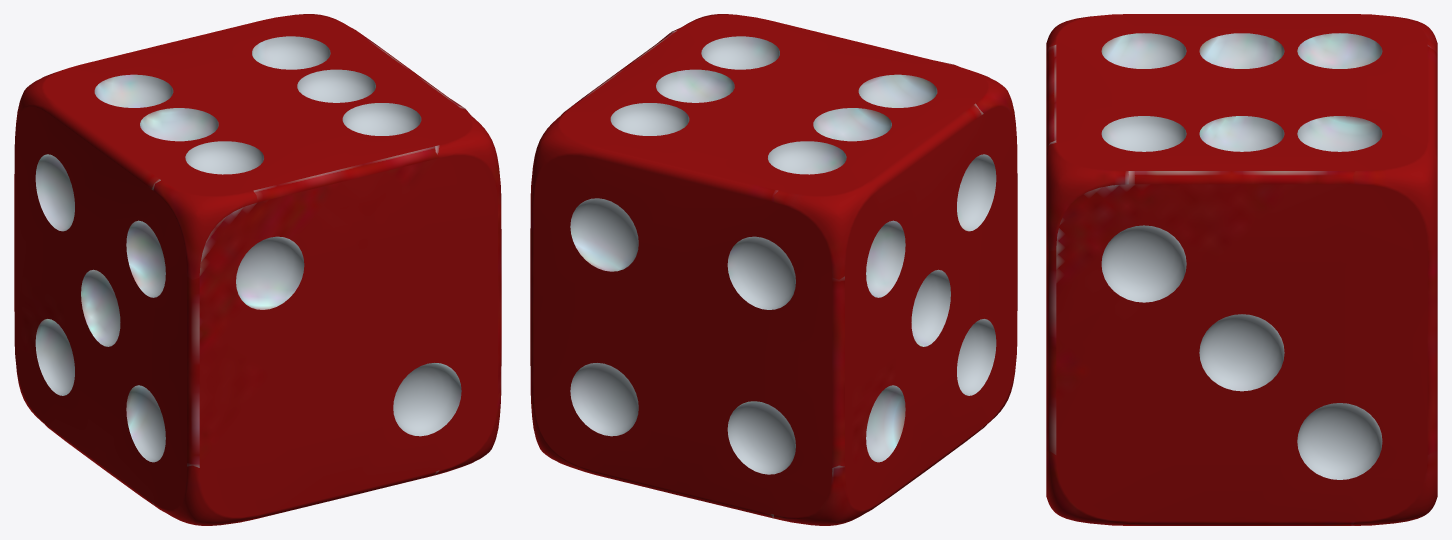
The picture shows the model from 3 angles, left to right: view 1: azimuth 30°, elevation 25°; view 2: azimuth 150°, elevation 25°; view 3: azimuth 270°, elevation 25°; orthographic projection. The views are drawn at different scales.
Visible parts, largest first — view 1: g (×2); view 2: g (×2); view 3: g (×2).
Part boxes in pixels (<box>): g (×2): <box>14,14,501,525</box>; g (×2): <box>530,14,1017,525</box>; g (×2): <box>1046,14,1437,525</box>.
Bounding box in the file's own units: 2 × 2 × 2.
Materials: 1 (1 with a texture image).
